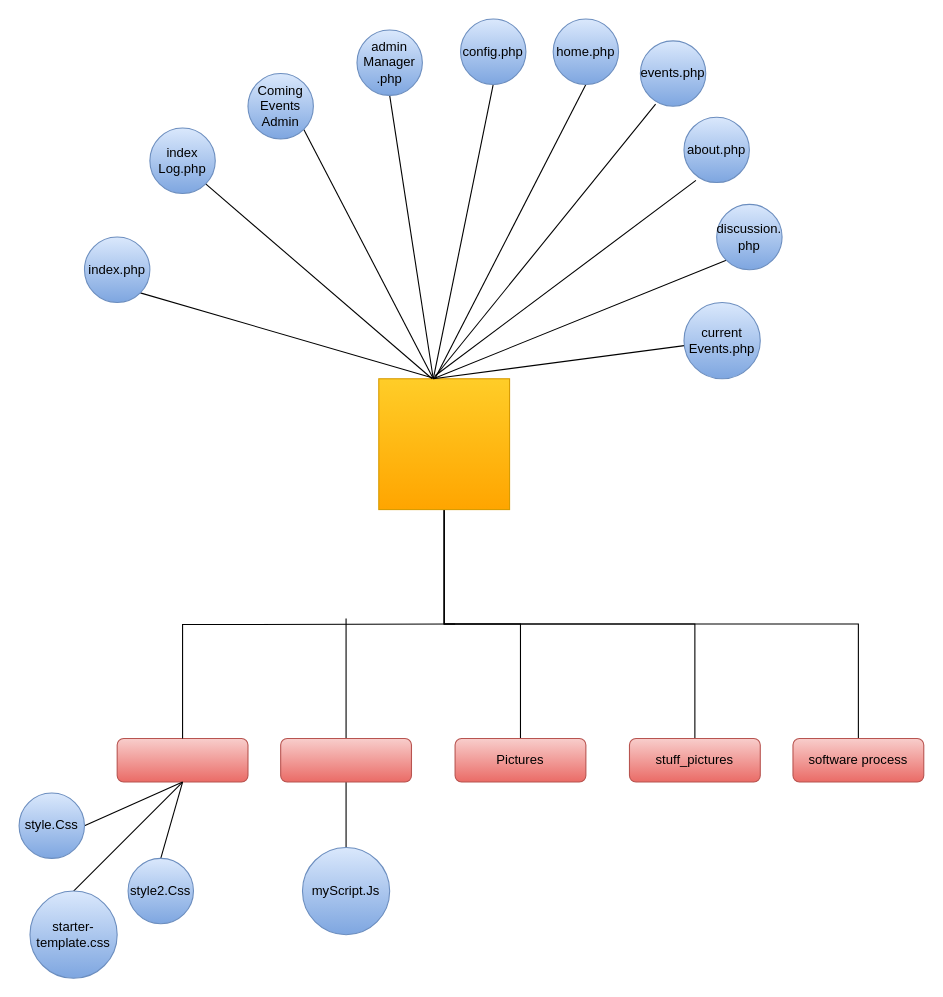
Image size: 943x997. Some labels were removed from this diagram. Each missing label, with the centre of its shape:
Css: point 182,759
Js: point 345,759
wda_assignement _version3: point 444,444
